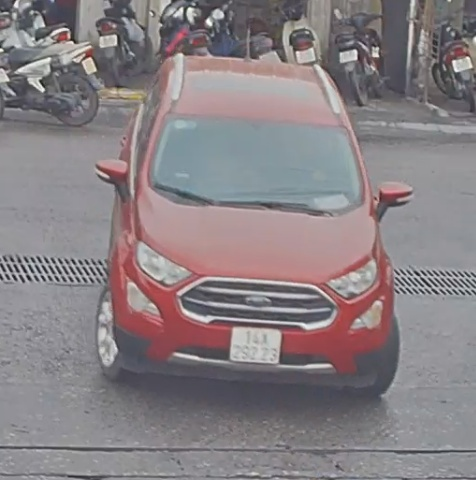vehicle plate: (227, 319, 286, 367)
